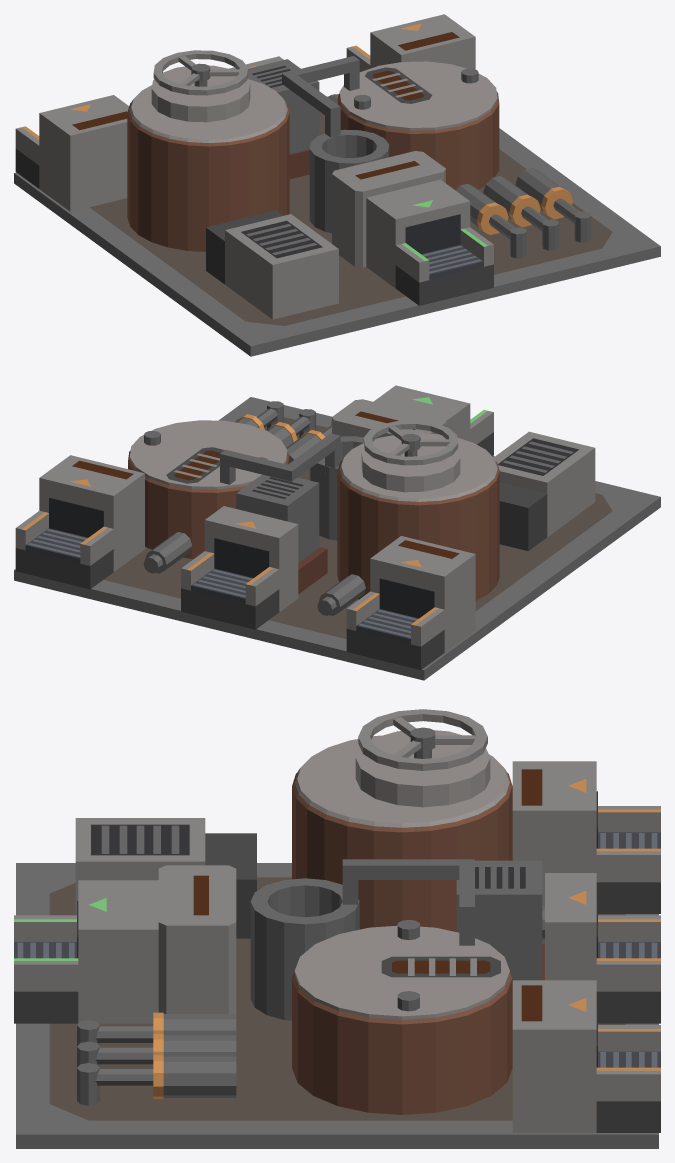
The model's file is vfef_alloy_forge_unlit.obj.
3 views of the same model, one above another, from view 1: azimuth 30°, elevation 25°; view 2: azimuth 150°, elevation 25°; view 3: azimuth 270°, elevation 25° (orthographic). The views are drawn at different scales.
Visible parts, largest first — view 1: vfef_alloy_forge_unlit_0, vfef_alloy_forge_unlit_37, vfef_alloy_forge_unlit_1, vfef_alloy_forge_unlit_2, vfef_alloy_forge_unlit_75, vfef_alloy_forge_unlit_51, vfef_alloy_forge_unlit_41, vfef_alloy_forge_unlit_63, vfef_alloy_forge_unlit_65, vfef_alloy_forge_unlit_38, vfef_alloy_forge_unlit_57, vfef_alloy_forge_unlit_13 (+28 smaller); view 2: vfef_alloy_forge_unlit_0, vfef_alloy_forge_unlit_37, vfef_alloy_forge_unlit_1, vfef_alloy_forge_unlit_51, vfef_alloy_forge_unlit_2, vfef_alloy_forge_unlit_13, vfef_alloy_forge_unlit_75, vfef_alloy_forge_unlit_41, vfef_alloy_forge_unlit_24, vfef_alloy_forge_unlit_38, vfef_alloy_forge_unlit_35, vfef_alloy_forge_unlit_44 (+37 smaller); view 3: vfef_alloy_forge_unlit_0, vfef_alloy_forge_unlit_41, vfef_alloy_forge_unlit_1, vfef_alloy_forge_unlit_37, vfef_alloy_forge_unlit_51, vfef_alloy_forge_unlit_13, vfef_alloy_forge_unlit_65, vfef_alloy_forge_unlit_63, vfef_alloy_forge_unlit_57, vfef_alloy_forge_unlit_2, vfef_alloy_forge_unlit_38, vfef_alloy_forge_unlit_35 (+39 smaller).
Part boxes in pixels (<box>): vfef_alloy_forge_unlit_0: <box>14,93,660,356</box>; vfef_alloy_forge_unlit_37: <box>127,102,289,251</box>; vfef_alloy_forge_unlit_1: <box>90,111,612,325</box>; vfef_alloy_forge_unlit_2: <box>39,95,129,211</box>; vfef_alloy_forge_unlit_75: <box>225,214,338,319</box>; vfef_alloy_forge_unlit_51: <box>339,61,497,130</box>; vfef_alloy_forge_unlit_41: <box>338,91,499,190</box>; vfef_alloy_forge_unlit_63: <box>332,151,445,267</box>; vfef_alloy_forge_unlit_65: <box>366,179,470,288</box>; vfef_alloy_forge_unlit_38: <box>129,79,287,142</box>; vfef_alloy_forge_unlit_57: <box>309,129,389,233</box>; vfef_alloy_forge_unlit_13: <box>370,14,475,69</box>; vfef_alloy_forge_unlit_0: <box>14,397,660,680</box>; vfef_alloy_forge_unlit_37: <box>337,461,499,600</box>; vfef_alloy_forge_unlit_1: <box>103,417,612,638</box>; vfef_alloy_forge_unlit_51: <box>129,420,287,489</box>; vfef_alloy_forge_unlit_2: <box>370,536,475,652</box>; vfef_alloy_forge_unlit_13: <box>39,455,144,571</box>; vfef_alloy_forge_unlit_75: <box>493,431,595,536</box>; vfef_alloy_forge_unlit_41: <box>128,450,289,558</box>; vfef_alloy_forge_unlit_24: <box>204,506,298,611</box>; vfef_alloy_forge_unlit_38: <box>339,433,497,501</box>; vfef_alloy_forge_unlit_35: <box>236,474,319,562</box>; vfef_alloy_forge_unlit_44: <box>361,435,460,492</box>; vfef_alloy_forge_unlit_0: <box>16,863,658,1148</box>; vfef_alloy_forge_unlit_41: <box>292,972,512,1114</box>; vfef_alloy_forge_unlit_1: <box>49,877,625,1120</box>; vfef_alloy_forge_unlit_37: <box>292,772,512,931</box>; vfef_alloy_forge_unlit_51: <box>294,925,509,1019</box>; vfef_alloy_forge_unlit_13: <box>512,980,596,1132</box>; vfef_alloy_forge_unlit_65: <box>78,880,158,1023</box>; vfef_alloy_forge_unlit_63: <box>158,865,236,1013</box>; vfef_alloy_forge_unlit_57: <box>250,878,359,1020</box>; vfef_alloy_forge_unlit_2: <box>512,761,596,906</box>; vfef_alloy_forge_unlit_38: <box>294,735,509,827</box>; vfef_alloy_forge_unlit_35: <box>456,860,542,980</box>.
Size of the model in its own units: 4.96 by 1.79 by 4.99.
